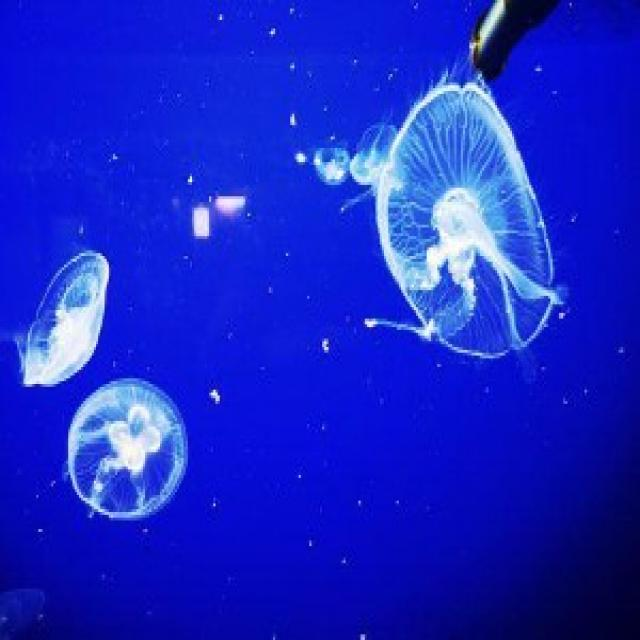Jellyfish: (344, 83, 568, 370), (62, 381, 203, 512), (0, 247, 116, 387), (343, 128, 391, 190), (310, 135, 352, 185)
